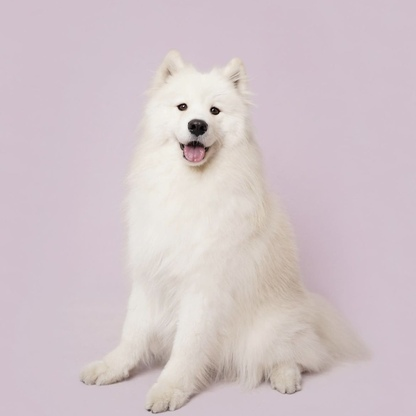samoyed: (76, 42, 375, 416)
